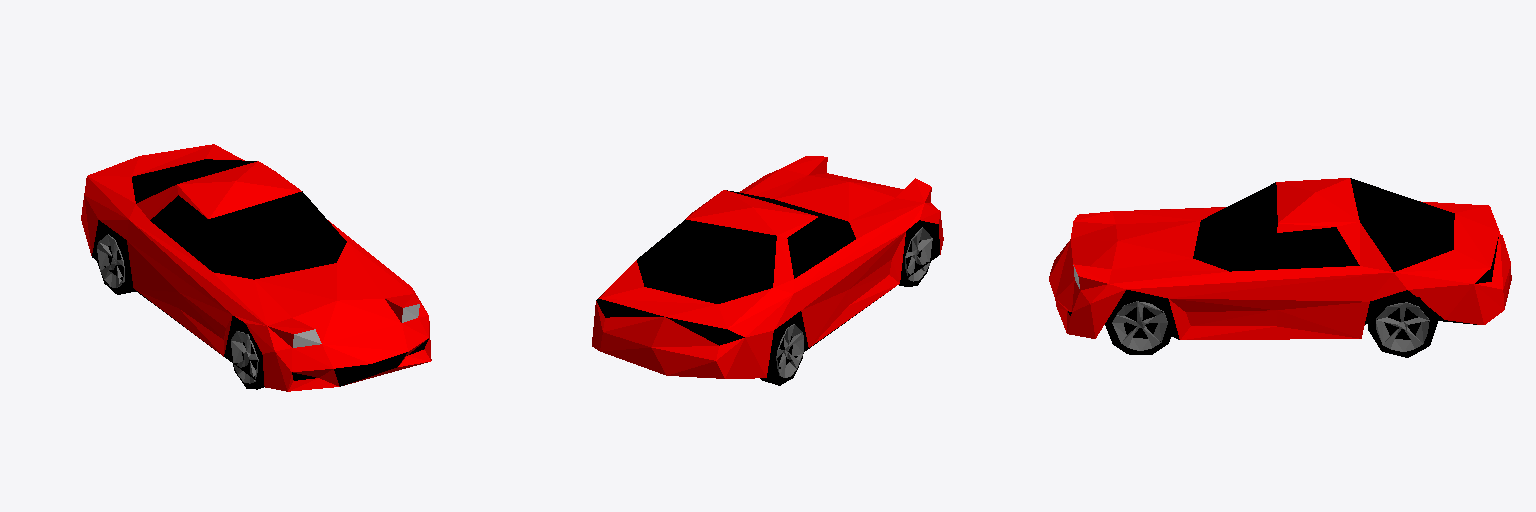
Rendered from mazda_rx7_low.obj.
The picture shows the model from 3 angles: view 1: azimuth 30°, elevation 25°; view 2: azimuth 150°, elevation 25°; view 3: azimuth 270°, elevation 25°; orthographic projection.
Parts seen in each view (by area): view 1: RX-7, BR_Wheel, FR_Wheel; view 2: RX-7, BR_Wheel, FR_Wheel; view 3: RX-7, BL_Wheel, FL_Wheel.
Part boxes in pixels (x1,y1,x2,y2): RX-7: (81, 144, 431, 391); BR_Wheel: (97, 227, 135, 294); FR_Wheel: (229, 322, 263, 389); RX-7: (592, 156, 943, 378); BR_Wheel: (760, 317, 805, 385); FR_Wheel: (899, 220, 933, 286); RX-7: (1049, 178, 1511, 339); BL_Wheel: (1368, 290, 1437, 357); FL_Wheel: (1105, 290, 1174, 354).
Size of the model in its own units: 1.82 by 1.29 by 4.34.